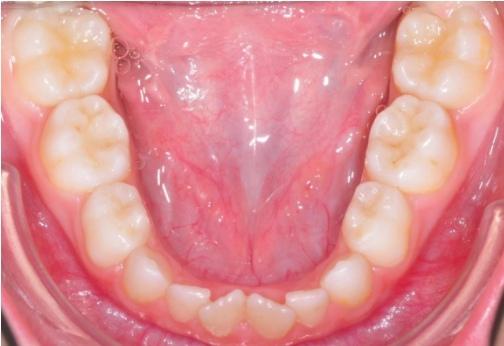LL1BC_healthy: (342, 182, 412, 266)
LL1M_healthy: (393, 8, 491, 106)
LL2BC_healthy: (366, 95, 456, 195)
LLCI_healthy: (248, 294, 294, 339)
LLC_healthy: (321, 253, 372, 307)
LLLI_healthy: (286, 291, 328, 326)
LR1BC_healthy: (81, 183, 149, 266)
LR1M_healthy: (15, 9, 108, 105)
LR2BC_healthy: (38, 95, 129, 191)
LRCI_healthy: (201, 291, 246, 337)
LRC_healthy: (124, 247, 169, 302)
LRLI_healthy: (166, 284, 208, 323)
